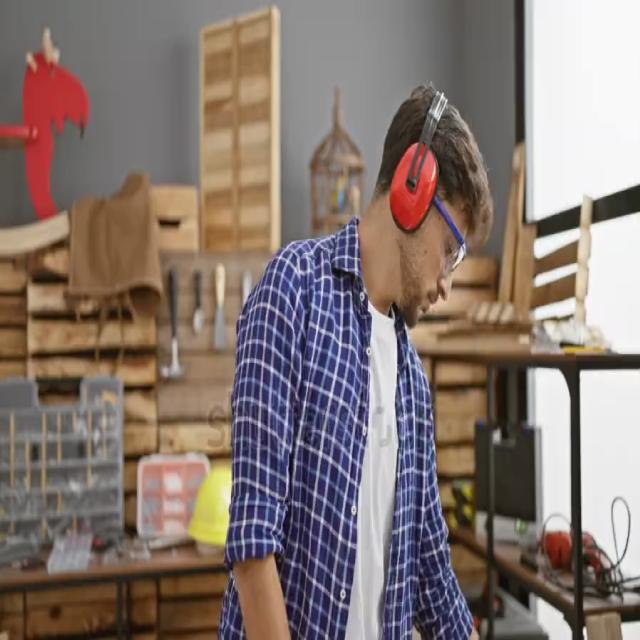Ear-Protection: (380, 129, 440, 243)
Glasses: (426, 196, 470, 272)
